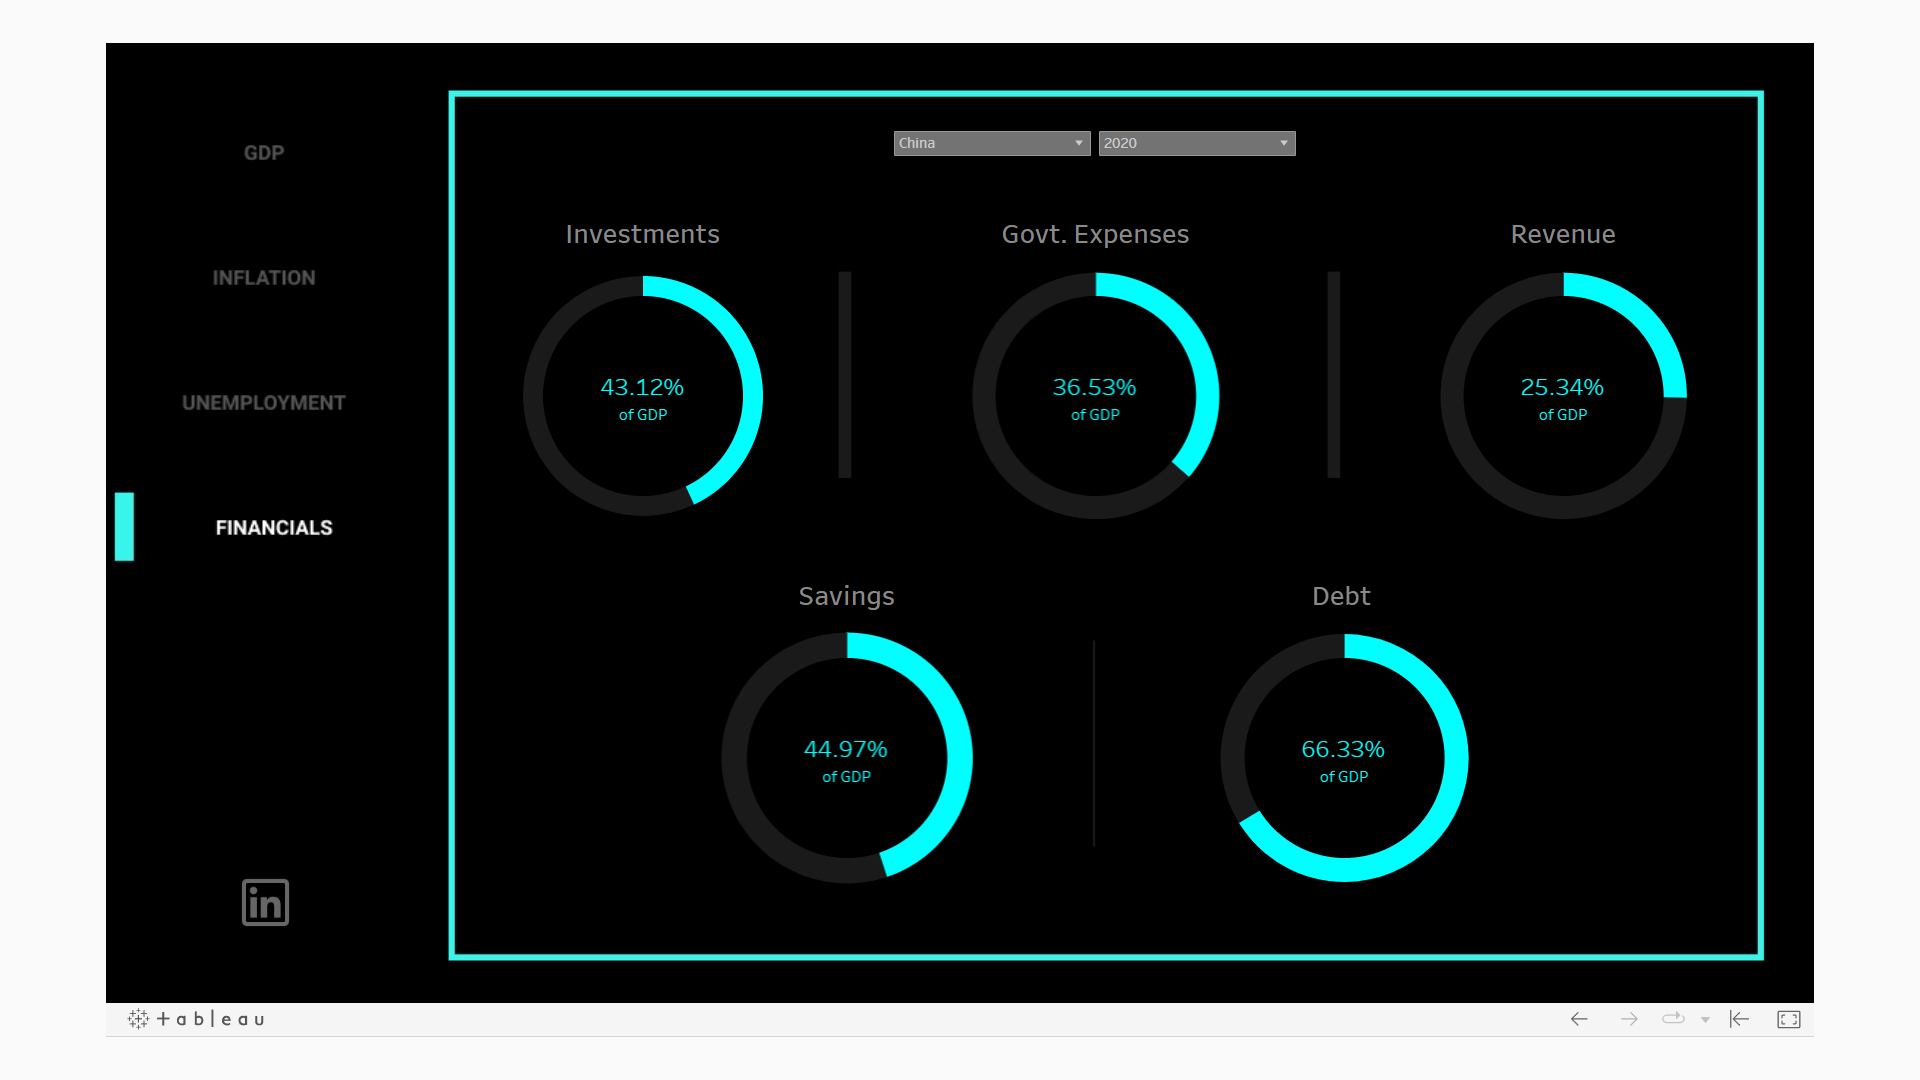

This screenshot's page, from the dashboard's own definition file:
{"tool":"tableau","page":{"name":"D F","canvas":[1366,768],"ordinal":0},"visuals":[{"type":"image","param":"Image/Untitled (17).png","box":[0,0,1366,768]},{"type":"image","param":"Image/Untitled (28).png","box":[237,25,1115,725]},{"type":"parameter","param":"[Parameters].[Parameter 3]","box":[629,70,160,49]},{"type":"parameter","param":"[Parameters].[Select Country for Financials (copy)]","box":[793,70,160,49]},{"type":"dashboard-object","box":[10,153,203,59]},{"type":"worksheet","title":"inv p","mark":"Pie","cols":["Calculation_2587599493369274371","Calculation_2587599493369274371"],"box":[247,162,327,260]},{"type":"worksheet","title":"exp p","mark":"Pie","cols":["Calculation_2587599493378879494","Calculation_2587599493378879494"],"box":[628,162,327,260]},{"type":"worksheet","title":"rev p","mark":"Pie","cols":["Calculation_2587599493389881356","Calculation_2587599493389881356"],"box":[991,162,327,260]},{"type":"dashboard-object","box":[11,266,203,56]},{"type":"image","param":"Image/Untitled (29).png","box":[4,371,210,64]},{"type":"dashboard-object","box":[10,377,204,56]},{"type":"parameter","param":"[Parameters].[Parameter 2]","box":[1145,427,160,33]},{"type":"worksheet","title":"pop ac","mark":"Area","rows":["Pivot Field Values","Pivot Field Values"],"cols":["Pivot Field Names"],"box":[626,443,682,282]},{"type":"worksheet","title":"sav p","mark":"Pie","cols":["Calculation_2587599493393780751","Calculation_2587599493393780751"],"box":[385,455,393,260]},{"type":"worksheet","title":"debt p","mark":"Pie","cols":["Calculation_2587599493394952210","Calculation_2587599493394952210"],"box":[794,455,393,260]},{"type":"image","param":"Image/Untitled (30).png","box":[5,482,211,66]}]}

Visuals, with their boxes on the page's 1366x768 design canvas (x1, y1, x2, y2). These are canvas units, not pixel positions in the 1920x1080 screenshot, which may show the page scaled, cropped or inside an application window:
image: bbox=[0, 0, 1366, 768]
image: bbox=[237, 25, 1352, 750]
parameter: bbox=[629, 70, 789, 119]
parameter: bbox=[793, 70, 953, 119]
dashboard-object: bbox=[10, 153, 213, 212]
"inv p" worksheet (Pie marks): bbox=[247, 162, 574, 422]
"exp p" worksheet (Pie marks): bbox=[628, 162, 955, 422]
"rev p" worksheet (Pie marks): bbox=[991, 162, 1318, 422]
dashboard-object: bbox=[11, 266, 214, 322]
image: bbox=[4, 371, 214, 435]
dashboard-object: bbox=[10, 377, 214, 433]
parameter: bbox=[1145, 427, 1305, 460]
"pop ac" worksheet (Area marks): bbox=[626, 443, 1308, 725]
"sav p" worksheet (Pie marks): bbox=[385, 455, 778, 715]
"debt p" worksheet (Pie marks): bbox=[794, 455, 1187, 715]
image: bbox=[5, 482, 216, 548]
